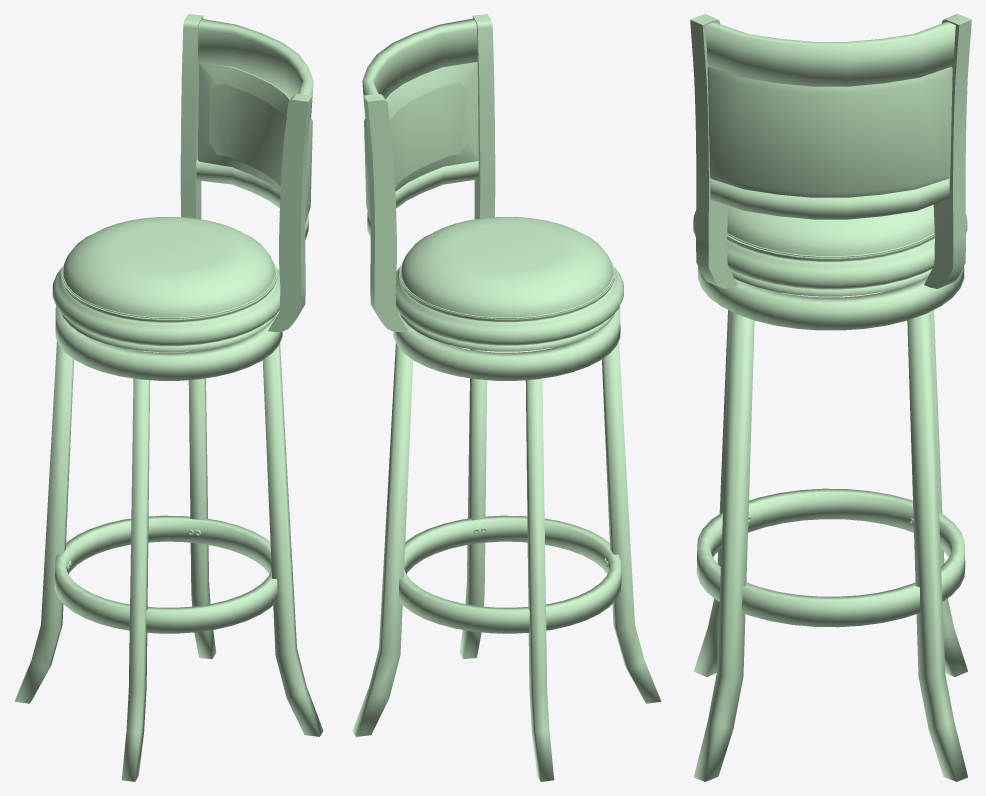
Rendered from Chair.fbx.
3 renders of one model, left to right at view 1: azimuth 30°, elevation 25°; view 2: azimuth 150°, elevation 25°; view 3: azimuth 270°, elevation 25°, orthographic. The views are drawn at different scales.
Visible parts, largest first — view 1: Feet_support_02_low1; view 2: Feet_support_02_low1; view 3: Feet_support_02_low1.
Boxes of the visible parts, x1=… form: Feet_support_02_low1: x1=14, y1=14, x2=323, y2=781; Feet_support_02_low1: x1=352, y1=14, x2=661, y2=781; Feet_support_02_low1: x1=690, y1=14, x2=971, y2=781.
Size of the model in its own units: 4.38 by 11.98 by 4.08.
